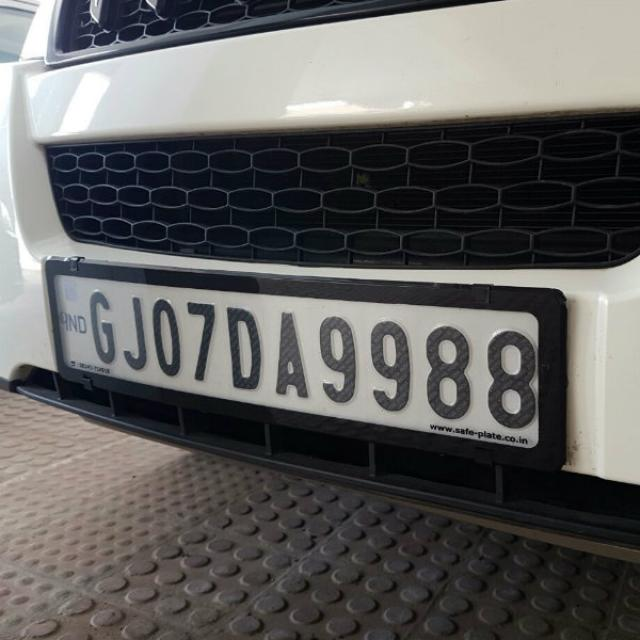plate: (44, 255, 579, 455)
